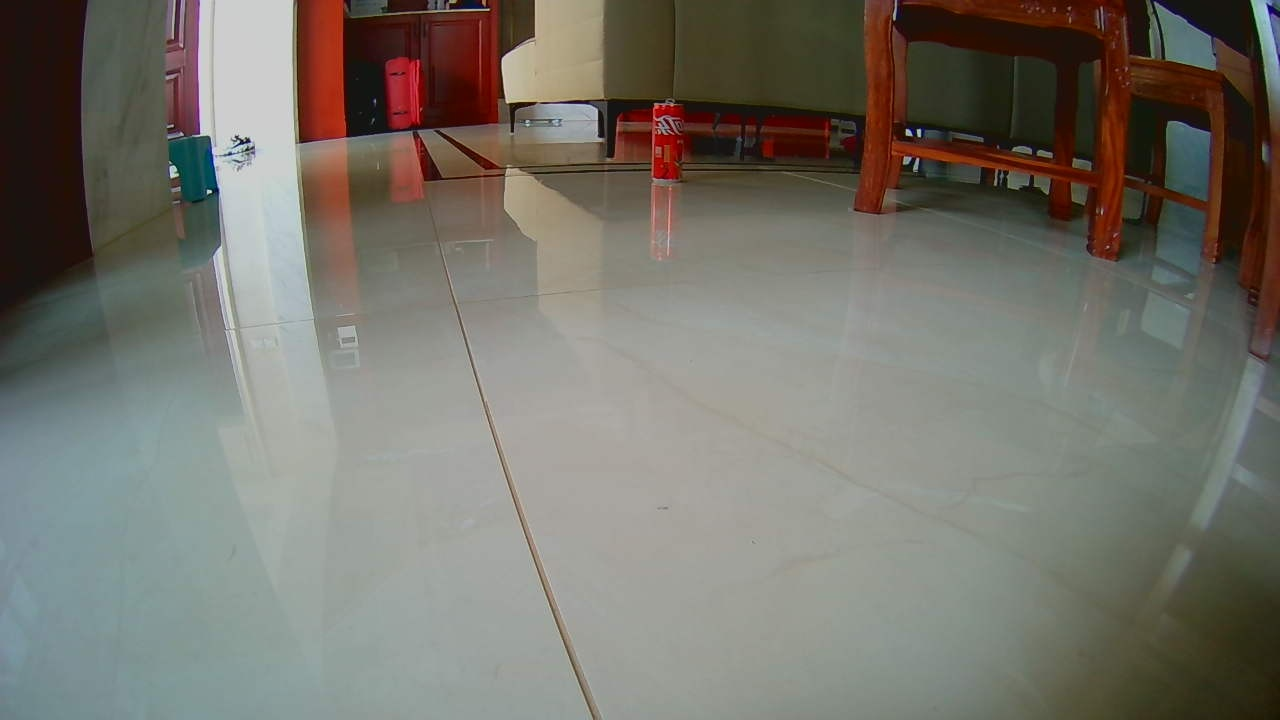cola: (644, 98, 693, 190)
